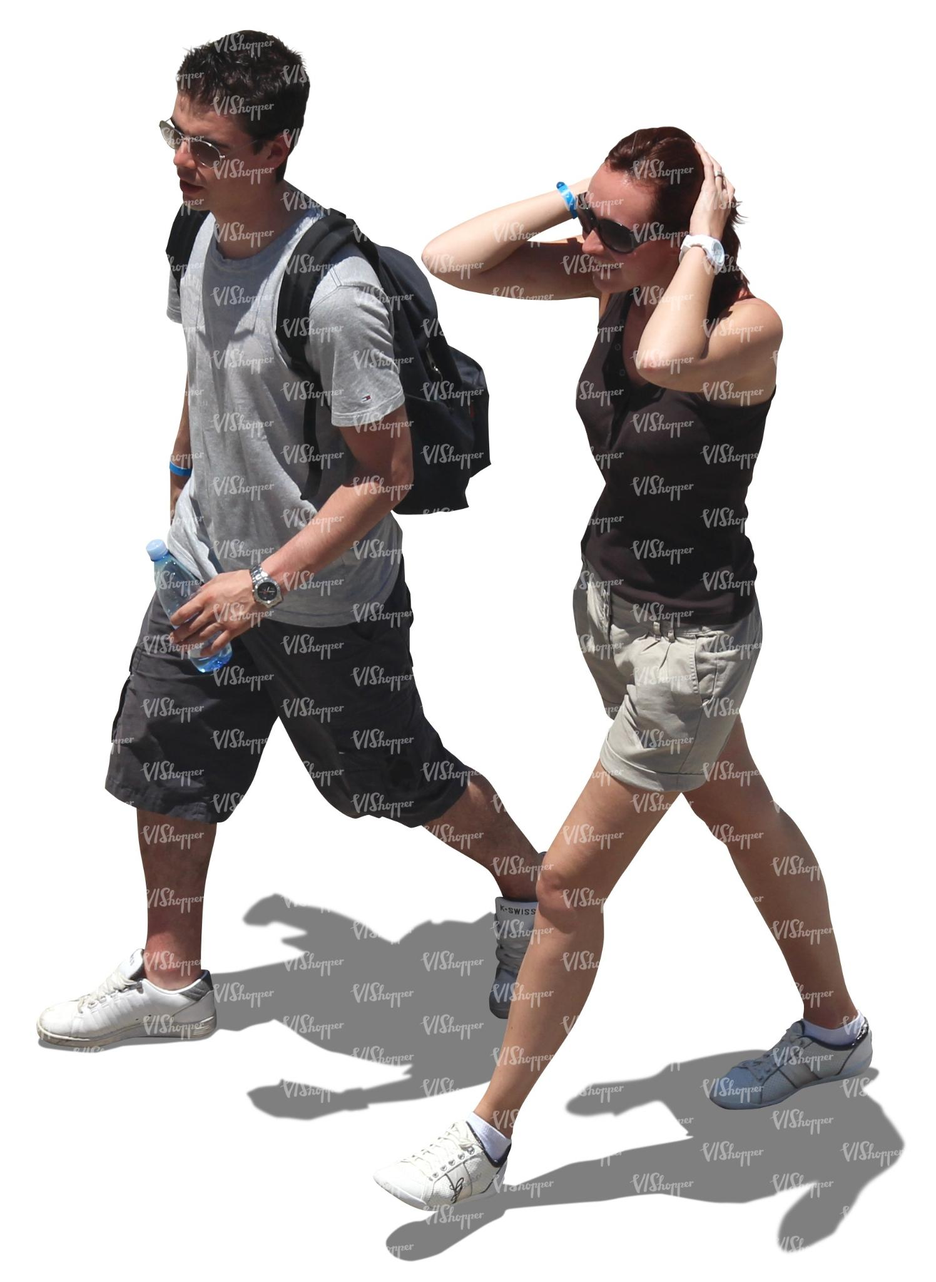Shorts: (101, 565, 480, 830), (560, 569, 769, 799)
short sleeve shirt: (163, 197, 413, 628)
vest: (573, 283, 777, 620)
